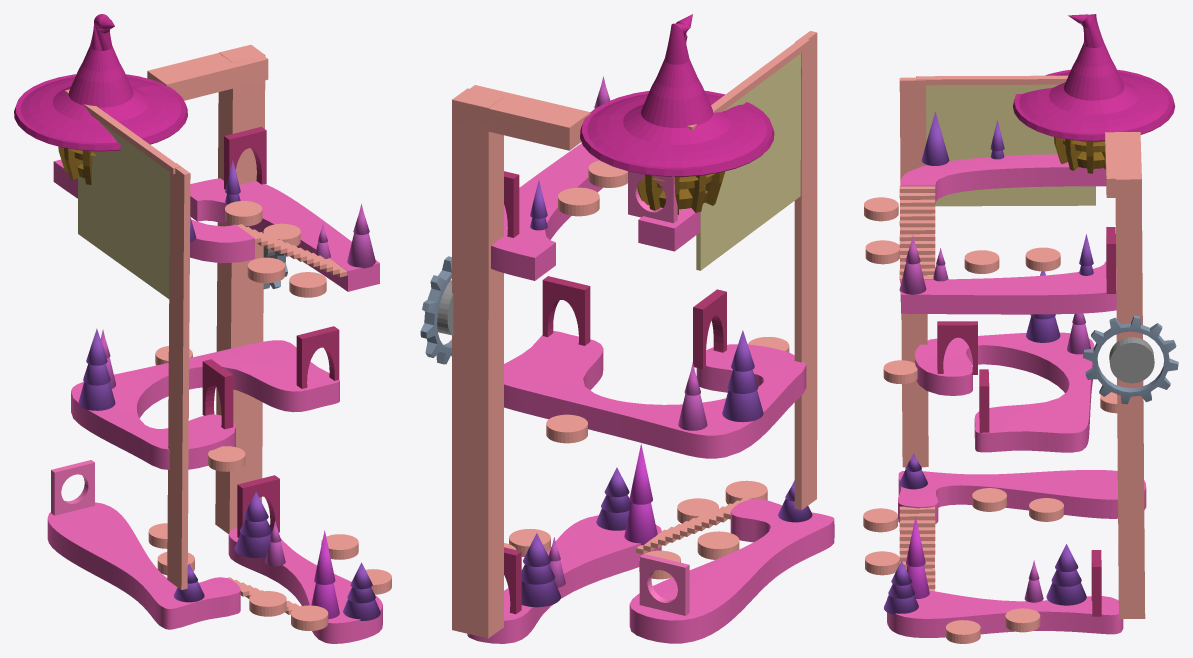
The picture shows the model from 3 angles, left to right: view 1: azimuth 30°, elevation 25°; view 2: azimuth 150°, elevation 25°; view 3: azimuth 270°, elevation 25°; orthographic projection. The views are drawn at different scales.
Visible parts, largest first — view 1: 物件_248, 球体, 物件_359, 物件_313, 物件_249, 物件_360, 物件_247, 物件_250, 物件_356, 物件_246, 锥体.052, 物件_327 (+20 smaller); view 2: 物件_359, 物件_248, 球体, 物件_249, 物件_313, 物件_360, 物件_247, 物件_250, 物件_356, 锥体.052, 物件_327, 物件_311 (+20 smaller); view 3: 物件_248, 物件_359, 球体, 物件_313, 物件_247, 物件_249, 物件_250, 物件_360, 物件_246, gear12_gears_0, 柱体, 物件_356 (+27 smaller).
Part boxes in pixels (x1,y1,x2,y2): 物件_248: [71, 340, 339, 469]; 球体: [14, 14, 187, 151]; 物件_359: [215, 44, 265, 533]; 物件_313: [78, 121, 169, 298]; 物件_249: [47, 502, 240, 629]; 物件_360: [167, 163, 190, 589]; 物件_247: [190, 178, 379, 291]; 物件_250: [228, 528, 382, 643]; 物件_356: [147, 53, 268, 100]; 物件_246: [53, 159, 254, 263]; 锥体.052: [78, 328, 115, 410]; 物件_327: [296, 326, 339, 388]; 物件_359: [452, 88, 503, 638]; 物件_248: [504, 331, 806, 458]; 球体: [580, 14, 774, 176]; 物件_249: [629, 498, 834, 643]; 物件_313: [696, 53, 801, 270]; 物件_360: [794, 31, 817, 510]; 物件_247: [491, 143, 602, 280]; 物件_250: [467, 515, 661, 643]; 物件_356: [454, 85, 590, 150]; 锥体.052: [722, 330, 763, 422]; 物件_327: [542, 276, 590, 345]; 物件_311: [639, 554, 689, 615]; 物件_248: [915, 332, 1094, 452]; 物件_359: [1115, 164, 1145, 619]; 球体: [1013, 14, 1175, 141]; 物件_313: [926, 84, 1095, 206]; 物件_247: [900, 261, 1116, 314]; 物件_249: [898, 470, 1146, 523]; 物件_250: [887, 590, 1123, 637]; 物件_360: [899, 77, 928, 467]; 物件_246: [900, 154, 1106, 204]; gear12_gears_0: [1083, 315, 1178, 404]; 柱体: [1109, 337, 1154, 383]; 物件_356: [1105, 132, 1141, 197].
Size of the model in its own units: 2843 by 5367 by 2840.
